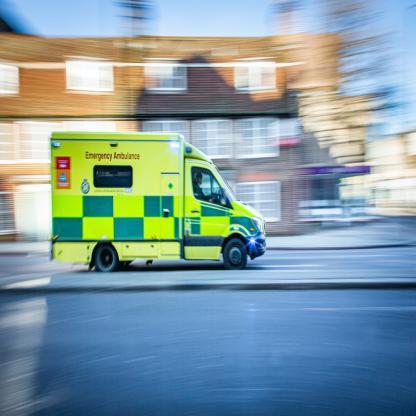Ambulance - v1 Ambulance last generate: (47, 132, 271, 268)
